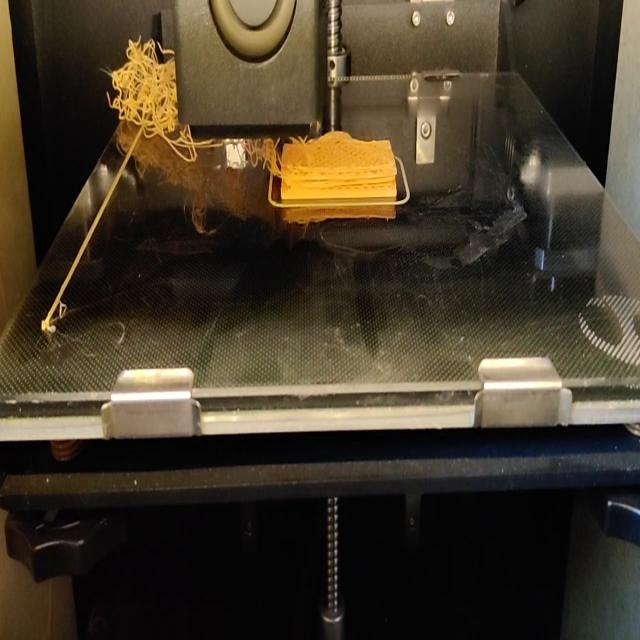spaghetti: (108, 36, 176, 162), (209, 137, 277, 172), (170, 124, 206, 168)
